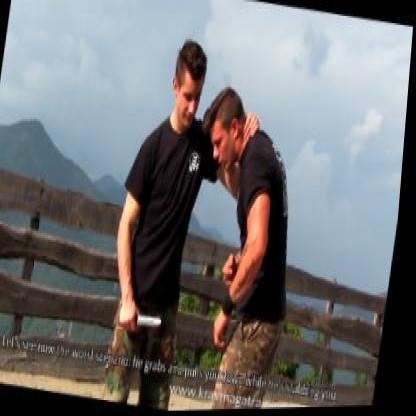knife: (122, 302, 171, 342)
